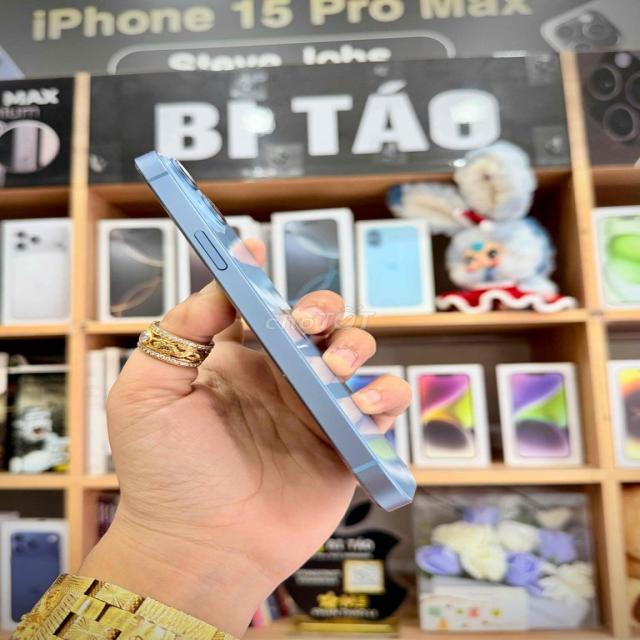gen_14: (129, 136, 453, 522)
